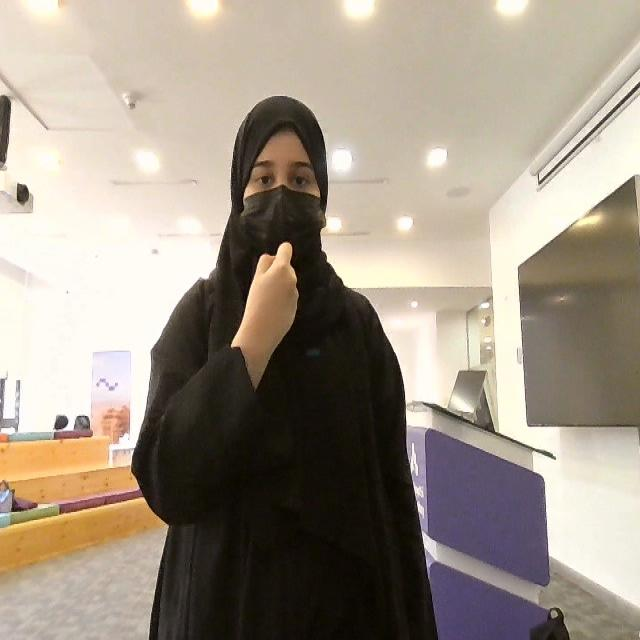medicine: (230, 240, 306, 375)
